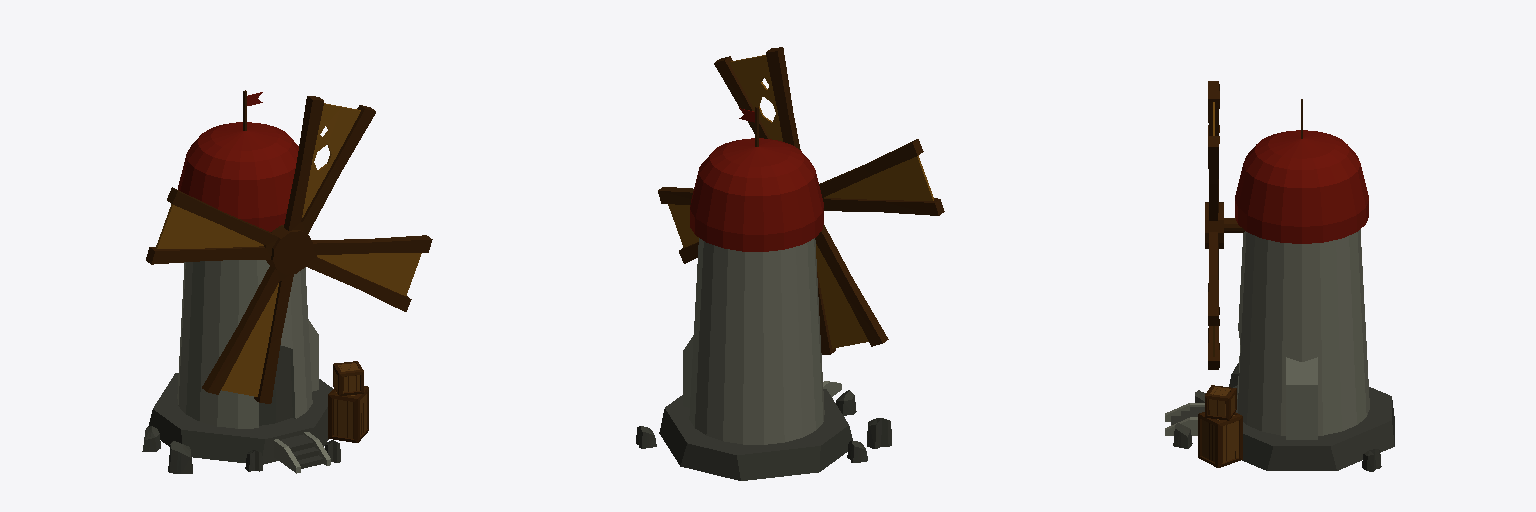
File: Windmill_SecondAge_Cylinder.obj
The picture shows the model from 3 angles: view 1: azimuth 30°, elevation 25°; view 2: azimuth 150°, elevation 25°; view 3: azimuth 270°, elevation 25°; orthographic projection.
Visible parts, largest first — view 1: Windmill_SecondAge_Cylinder; view 2: Windmill_SecondAge_Cylinder; view 3: Windmill_SecondAge_Cylinder.
Boxes of the visible parts, x1=… form: Windmill_SecondAge_Cylinder: x1=142, y1=90, x2=432, y2=473; Windmill_SecondAge_Cylinder: x1=636, y1=47, x2=944, y2=480; Windmill_SecondAge_Cylinder: x1=1165, y1=81, x2=1394, y2=471.
Size of the model in its own units: 1.34 by 1.61 by 0.9424.